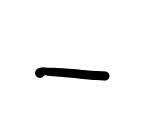minus: (35, 65, 110, 82)
